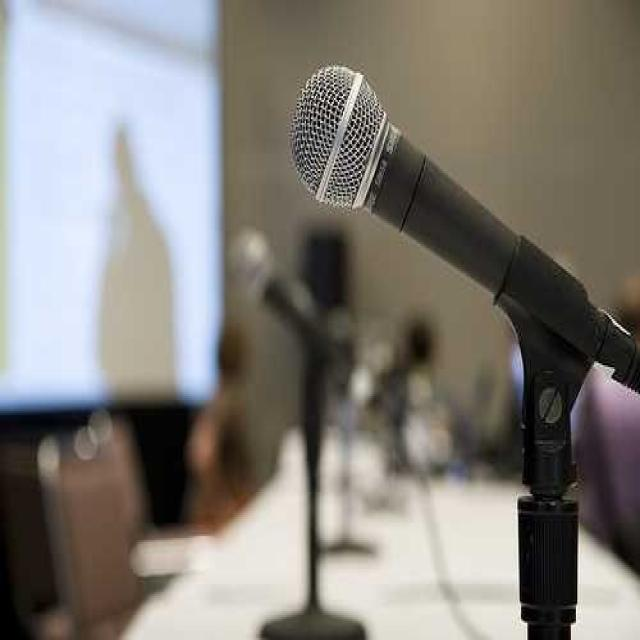microphone: (291, 62, 640, 401)
